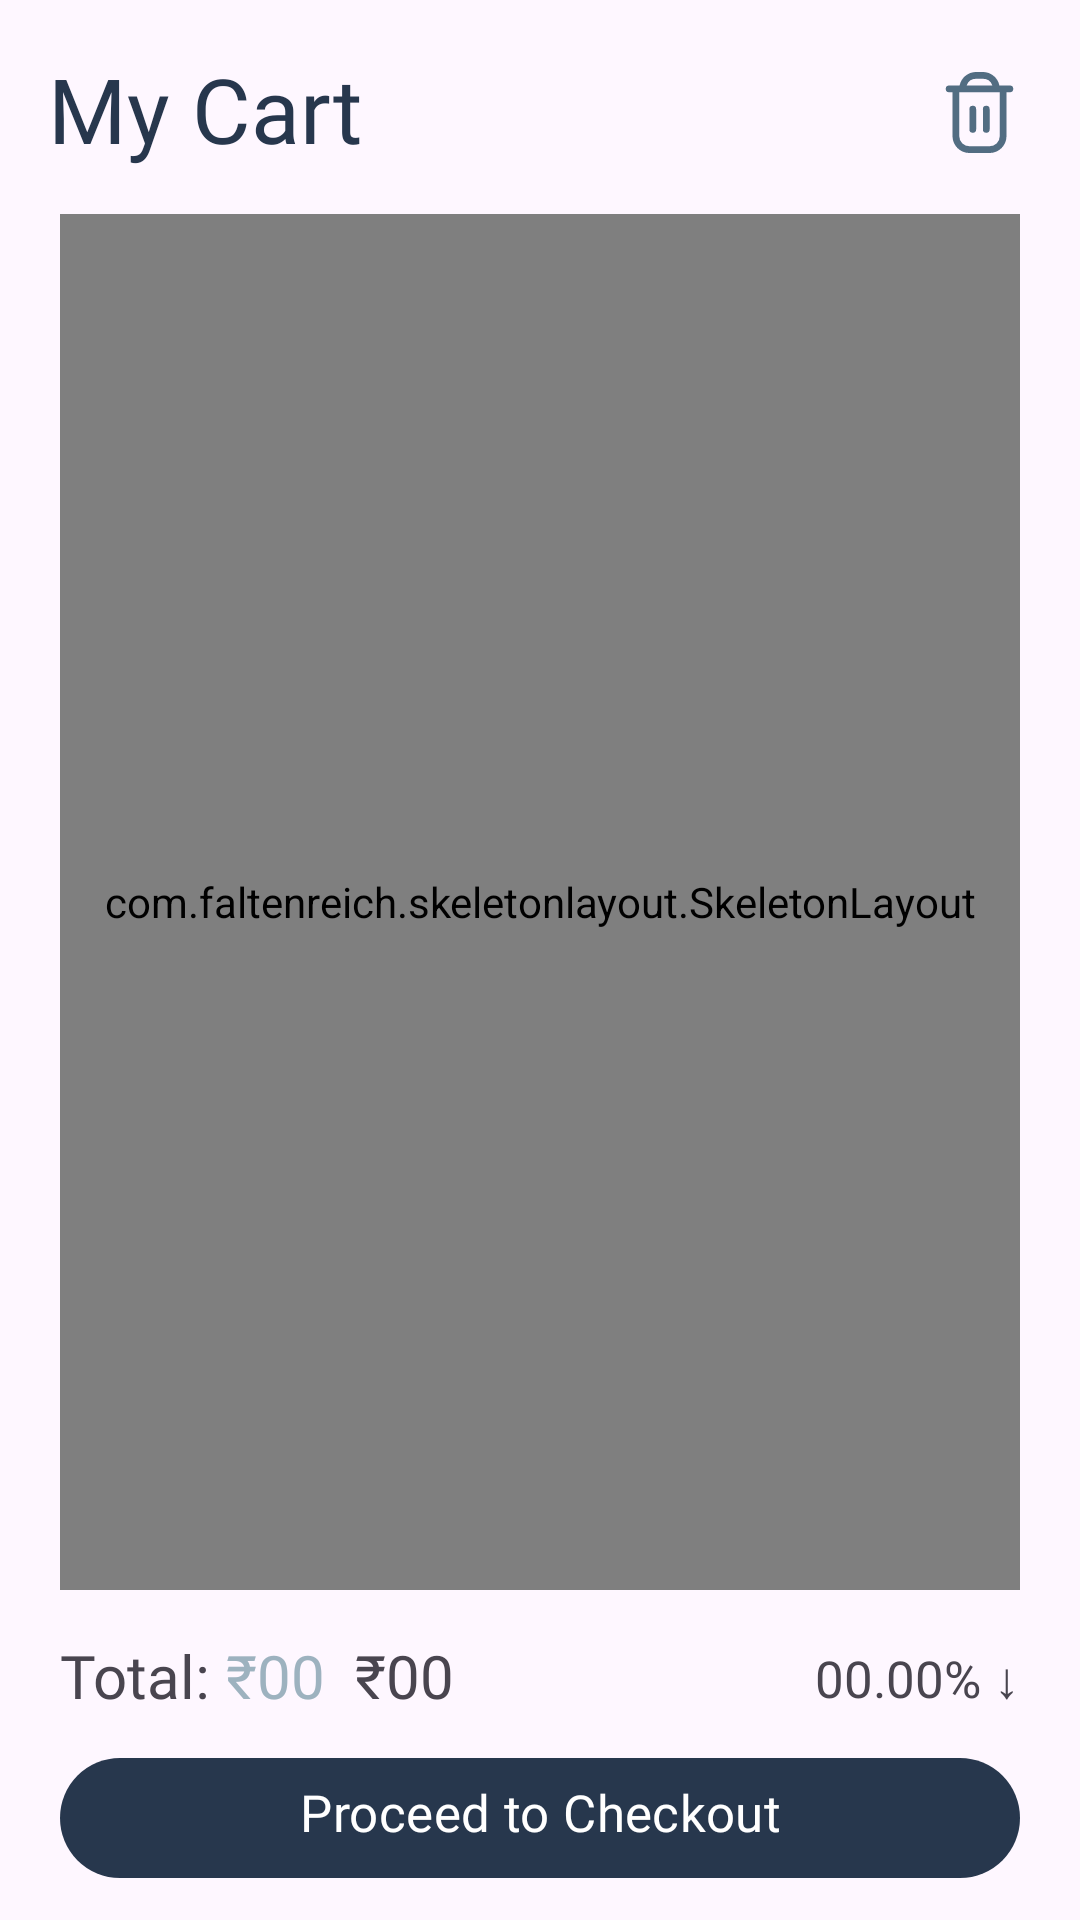

Named icons in this screenshot (1080 × 1920) and their bounding boxes, (x1, y1, x2, y2):
trash: (945, 72, 1014, 153)
